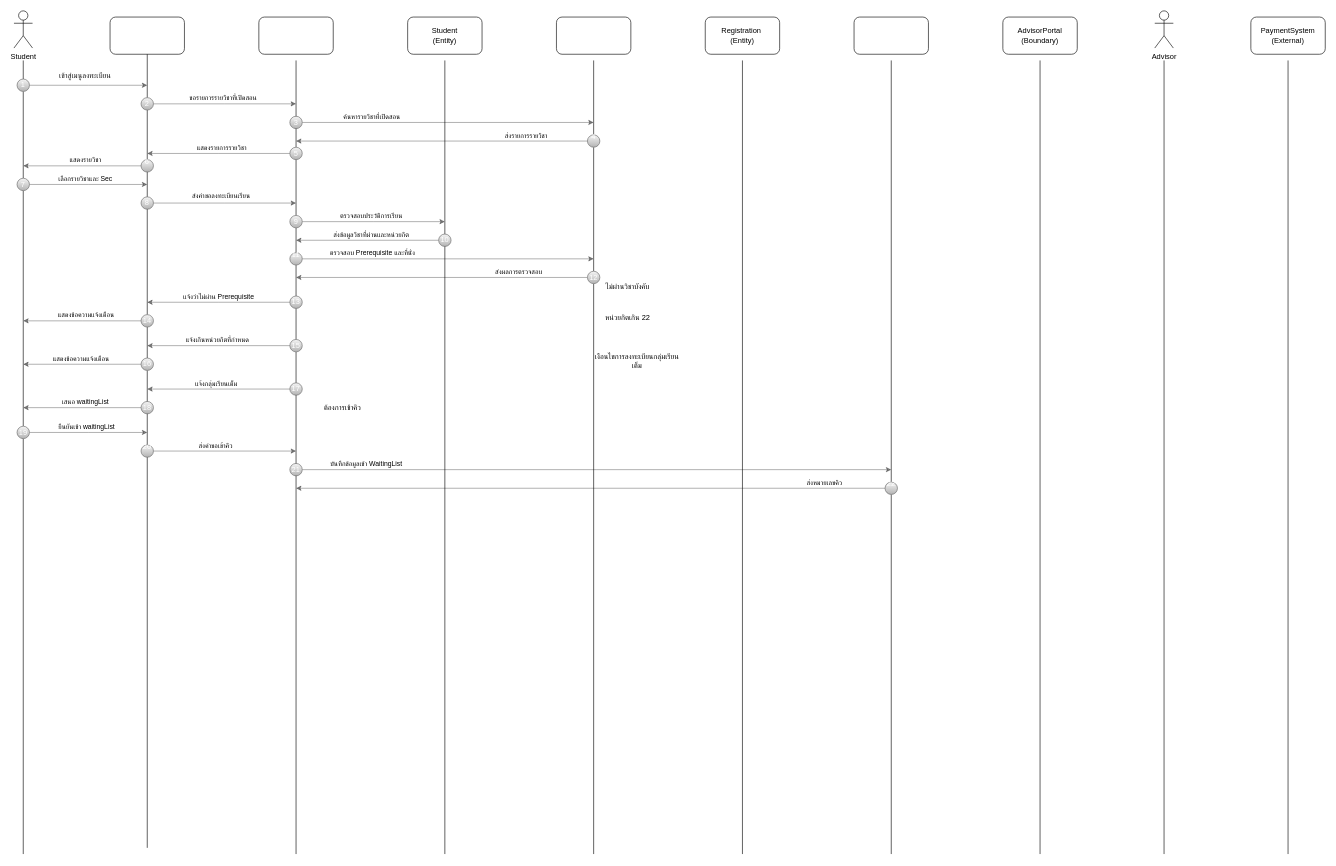
The diagram is 1336 pixels wide and 866 high, and some of its shapes have lost their labels. Here are the shapes that lost their labels. From the top down, the box of each, then its label:
(109, 16, 184, 54): RegistrationUI (Boundary)
(258, 16, 333, 54): RegistrationController (Control)
(556, 16, 631, 54): CourseSection (Entity)
(853, 16, 928, 54): WaitingList (Entity)
